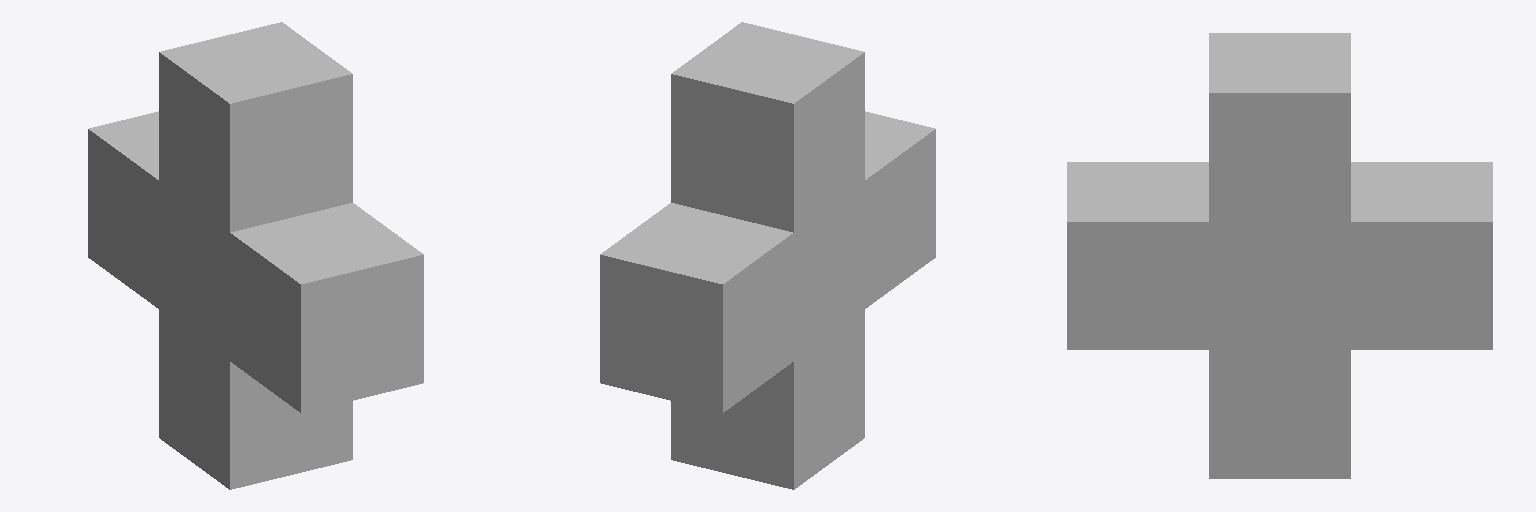
File: heal_pack.obj
3 views of the same model, side by side, from view 1: azimuth 30°, elevation 25°; view 2: azimuth 150°, elevation 25°; view 3: azimuth 270°, elevation 25° (orthographic).
Parts seen in each view (by area): view 1: Cube; view 2: Cube; view 3: Cube.
Boxes of the visible parts, x1=… form: Cube: x1=88, y1=22, x2=423, y2=489; Cube: x1=600, y1=22, x2=935, y2=489; Cube: x1=1067, y1=33, x2=1492, y2=478.
Bounding box in the file's own units: 0.1333 × 0.4 × 0.4.